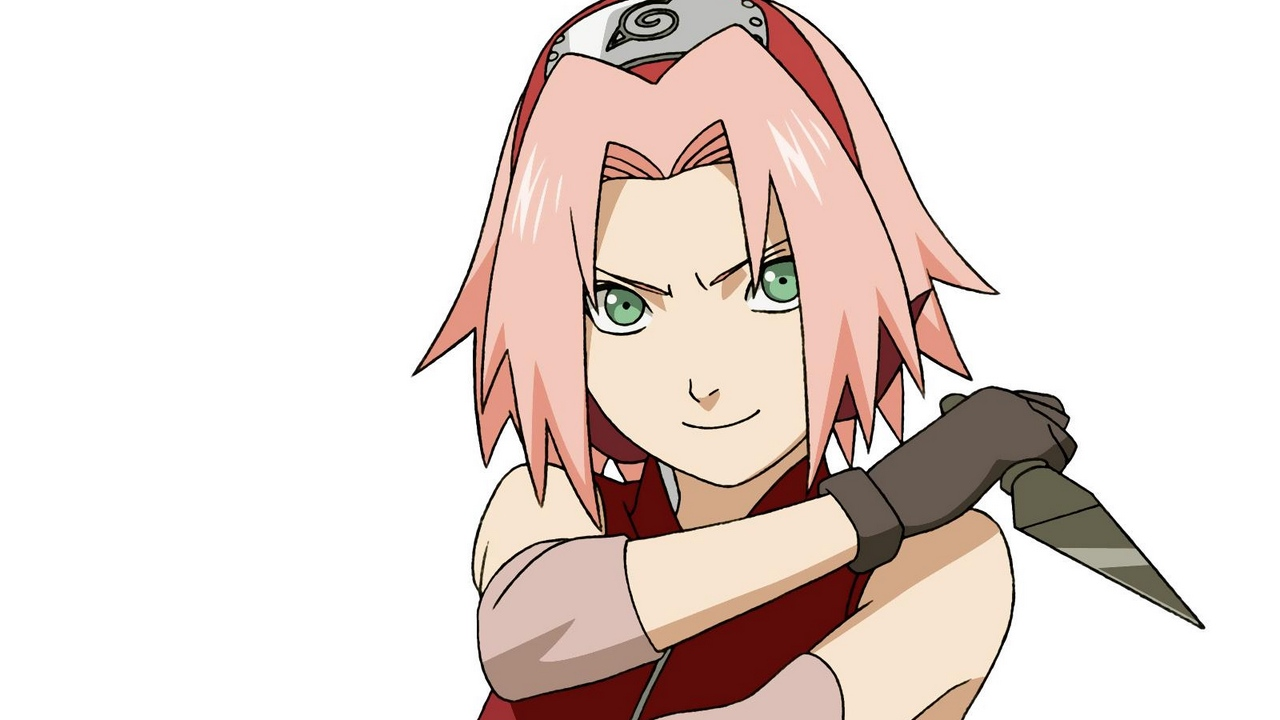sakura: (510, 7, 881, 490)
